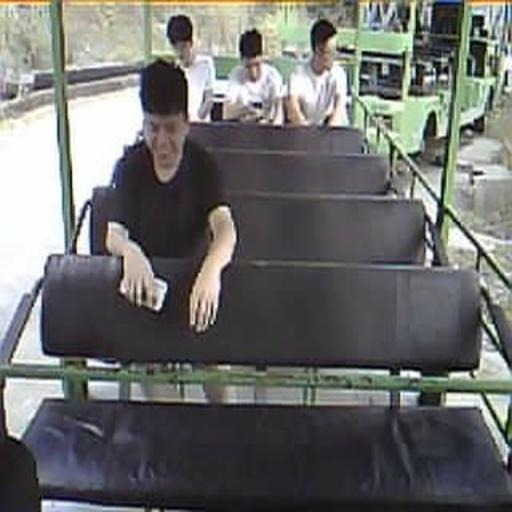persona: (100, 58, 238, 335), (288, 18, 350, 128), (224, 28, 284, 126), (165, 14, 216, 121)
